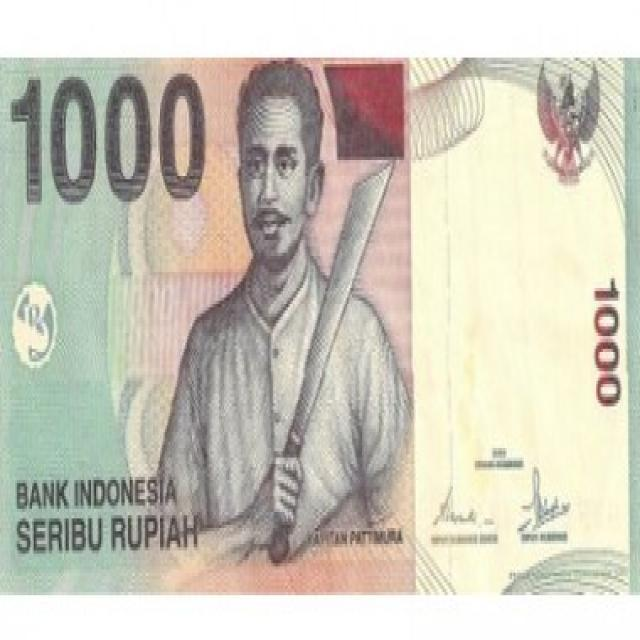seribu rupiah: (1, 55, 640, 601)
